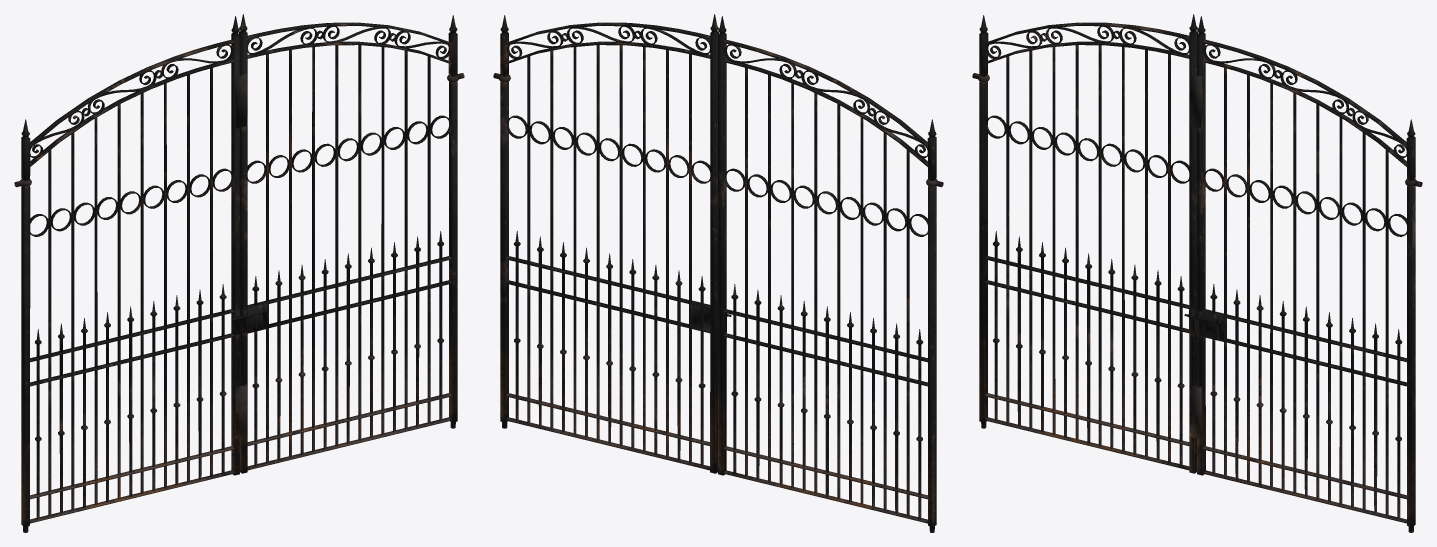
Rendered from large_iron_gate.fbx.
3 views of the same model, side by side, from view 1: azimuth 30°, elevation 25°; view 2: azimuth 150°, elevation 25°; view 3: azimuth 330°, elevation 25° (orthographic).
Visible parts, largest first — view 1: Static__large_iron_gate_large_iron_gate; view 2: Static__large_iron_gate_large_iron_gate; view 3: Static__large_iron_gate_large_iron_gate.
Part boxes in pixels (x1=…): Static__large_iron_gate_large_iron_gate: x1=14, y1=14, x2=464, y2=532; Static__large_iron_gate_large_iron_gate: x1=493, y1=14, x2=943, y2=532; Static__large_iron_gate_large_iron_gate: x1=972, y1=14, x2=1422, y2=532.
Bounding box in the file's own units: 295 × 293 × 9.71.
